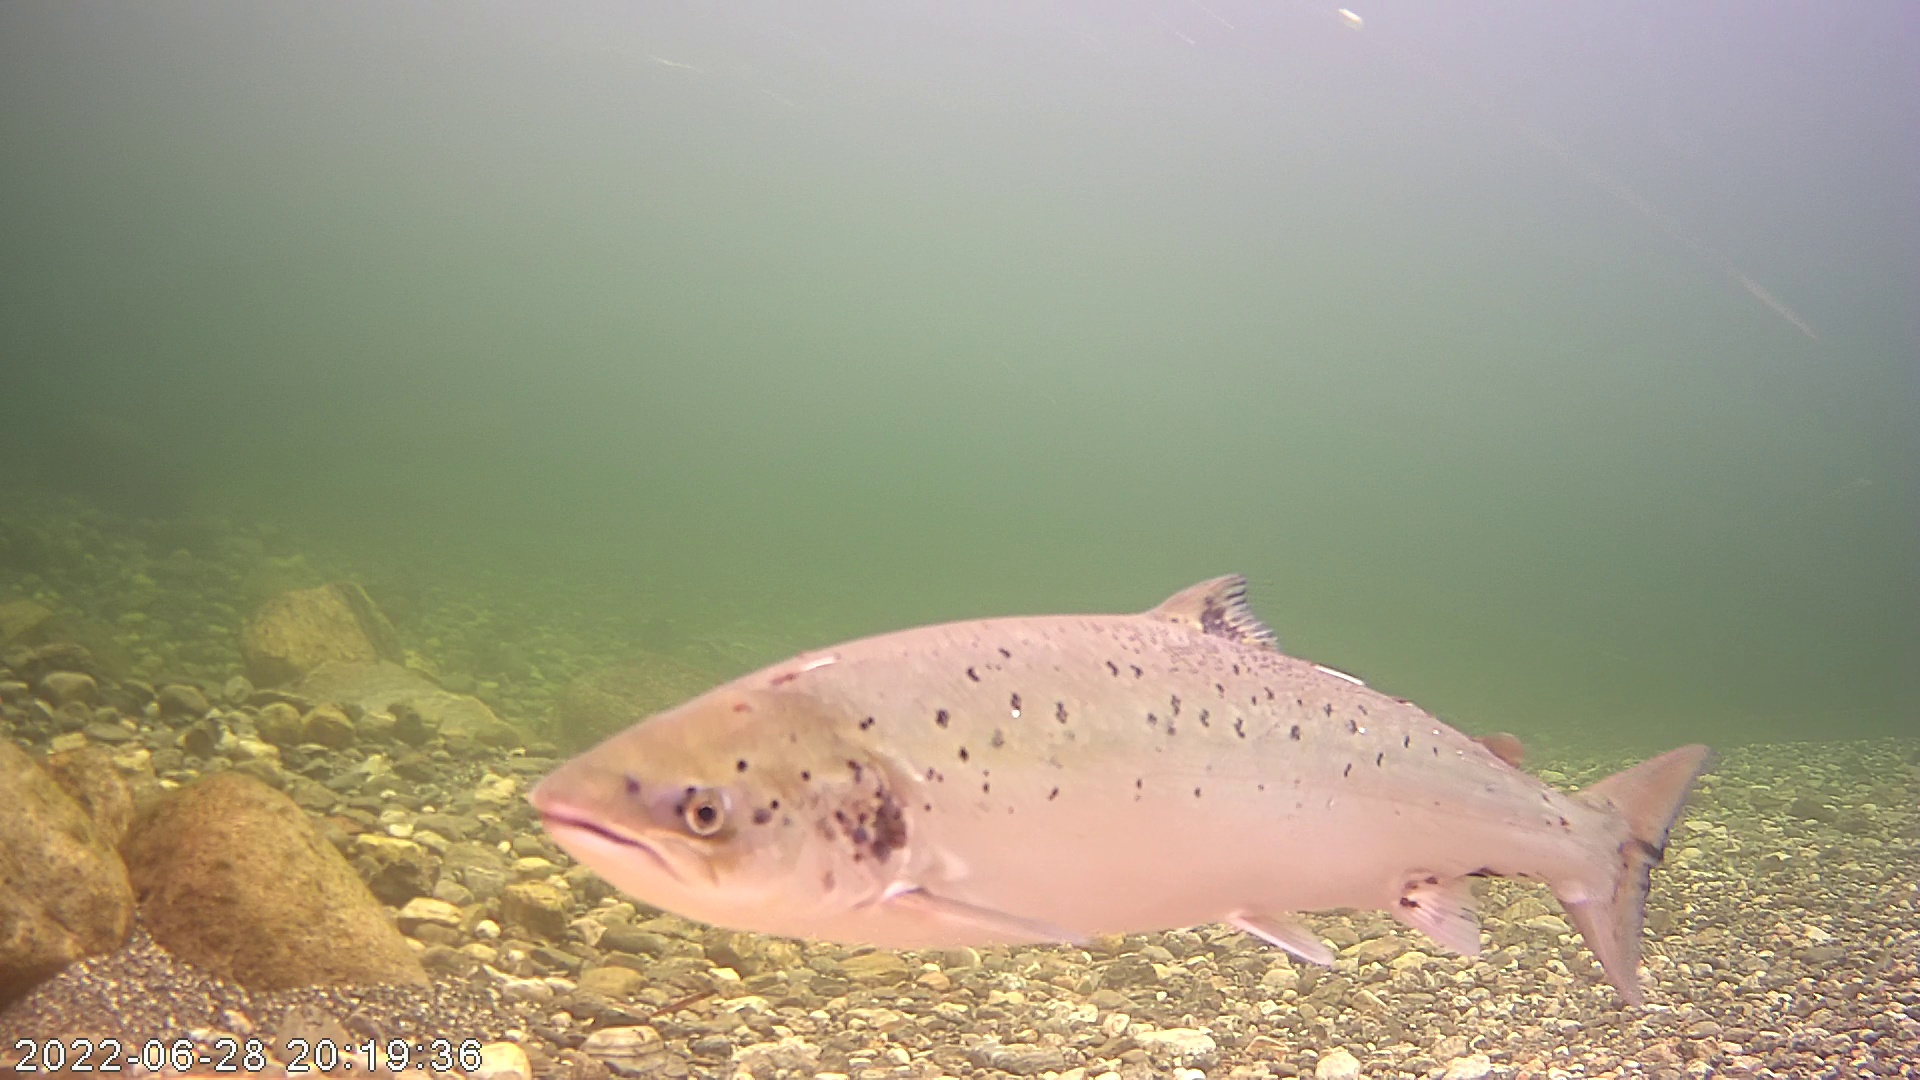salmon: (545, 484, 1668, 949)
